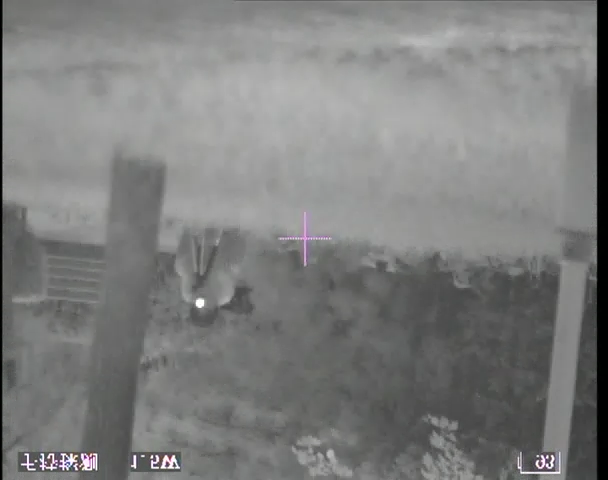my: (195, 295, 207, 309)
